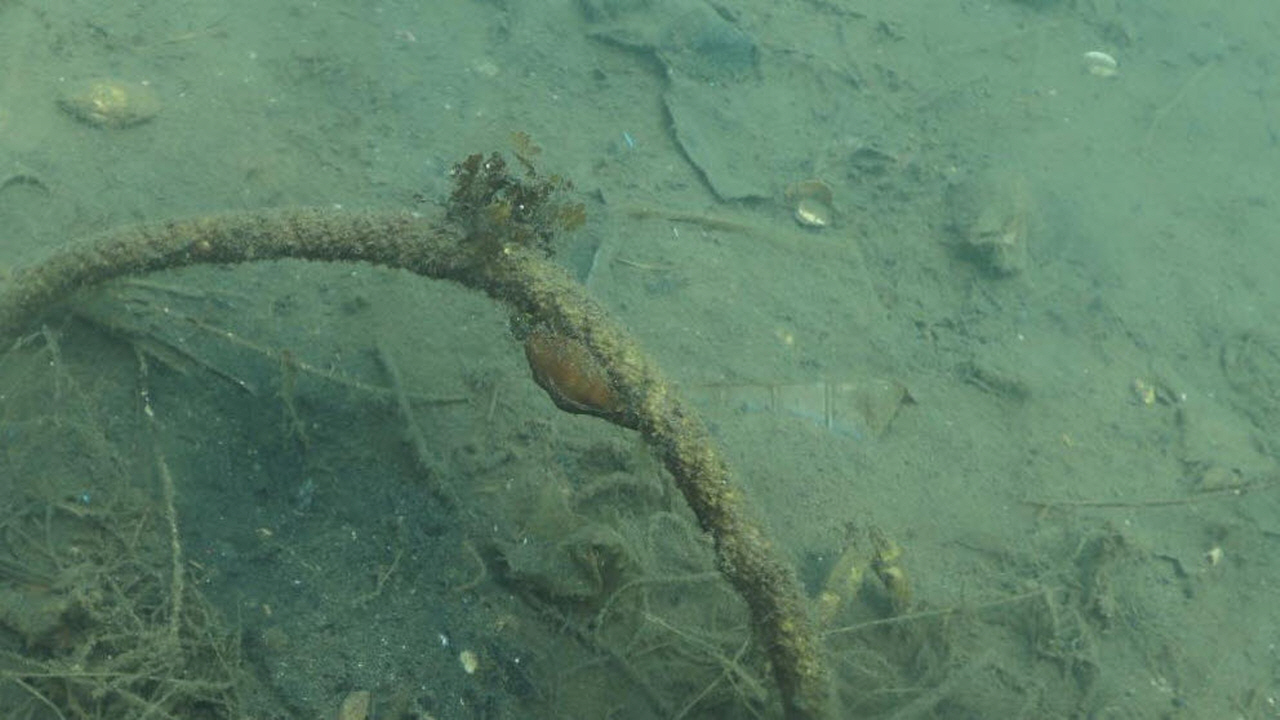rope: (0, 201, 843, 720)
